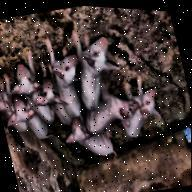boar: (0, 10, 170, 186)
